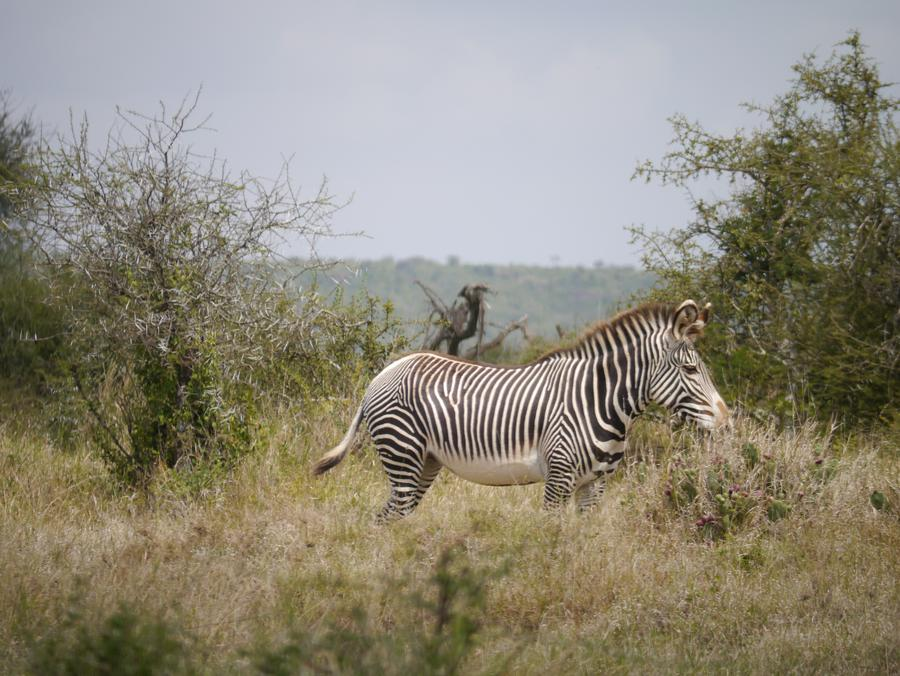zebra_grevys: (367, 334, 599, 482)
